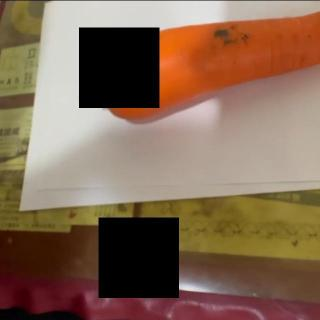carrot: (77, 4, 320, 121)
